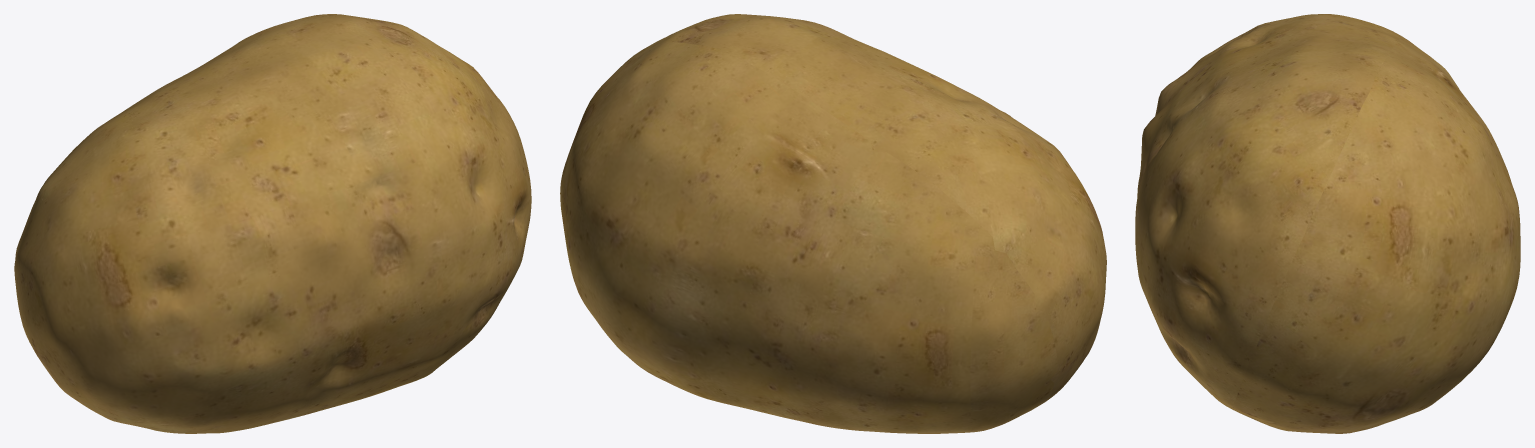
Rendered from papa.glb.
The picture shows the model from 3 angles, left to right: view 1: azimuth 30°, elevation 25°; view 2: azimuth 150°, elevation 25°; view 3: azimuth 270°, elevation 25°; orthographic projection. The views are drawn at different scales.
Visible parts, largest first — view 1: Mball.000_Mesh.001; view 2: Mball.000_Mesh.001; view 3: Mball.000_Mesh.001.
Part boxes in pixels (box(x1,y1,x2,y2)): Mball.000_Mesh.001: box(14, 14, 531, 433); Mball.000_Mesh.001: box(560, 14, 1106, 433); Mball.000_Mesh.001: box(1135, 14, 1520, 433).
Size of the model in its own units: 0.9257 by 0.6441 by 0.6338.
Materials: 1 (1 with a texture image).
